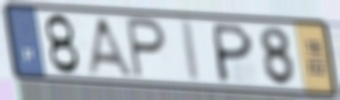8: (258, 25, 298, 87), (44, 12, 81, 75)
A: (84, 15, 136, 79)
I: (182, 17, 204, 86)
P: (125, 15, 169, 82), (212, 21, 255, 86)
